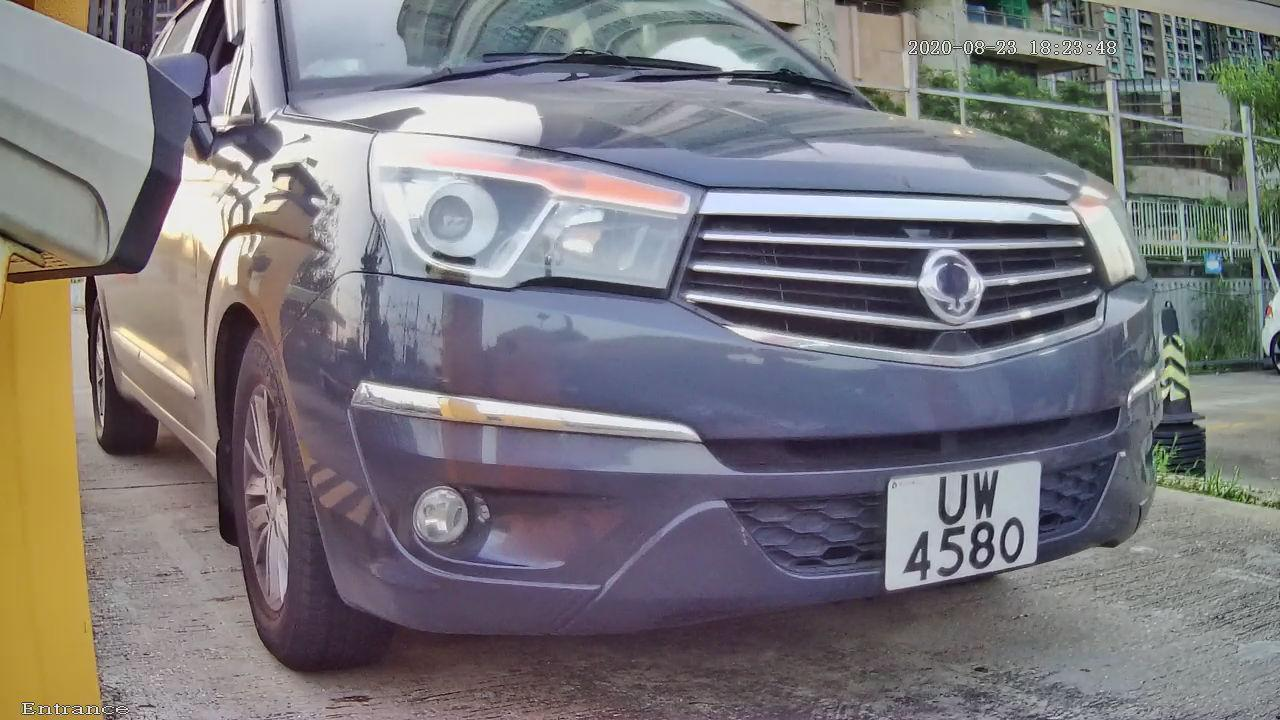License Plate: (844, 411, 1088, 629)
